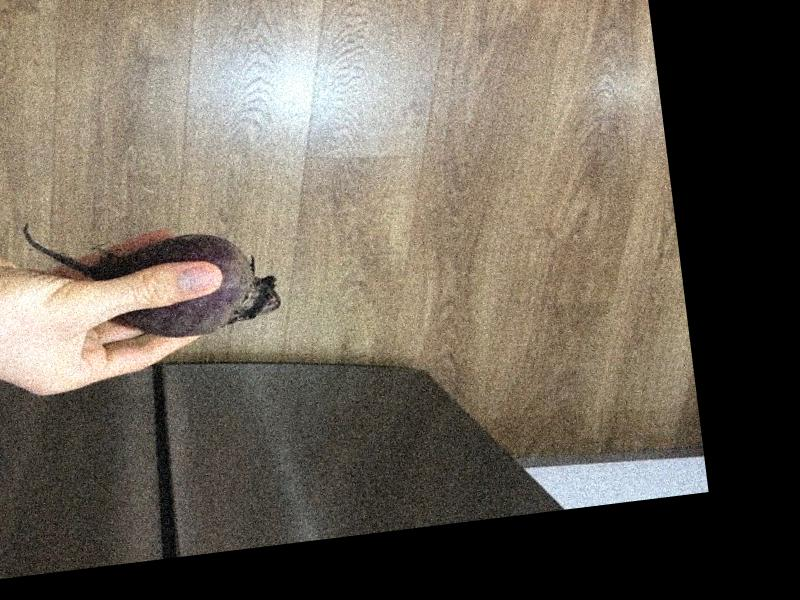Beet: (24, 193, 285, 355)
